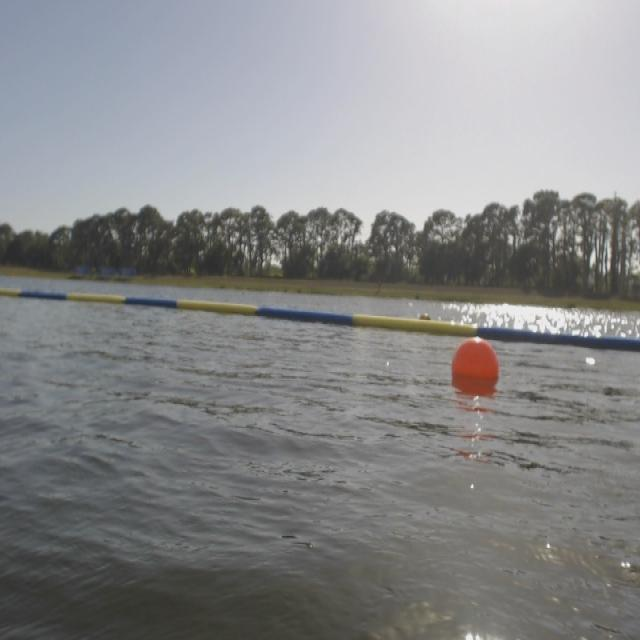Orange__Buoy: (454, 333, 488, 396)
